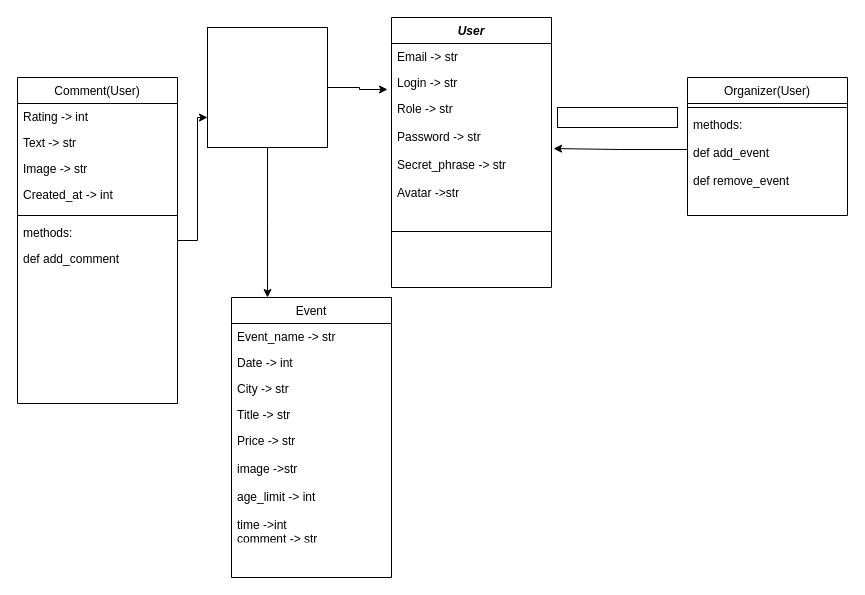
The diagram is 865 pixels wide and 595 high, and some of its shapes have lost their labels. The shapes that lost their labels are listed below. From the top down, each one's centre as x and y in pixels, then its label:
At (267,87): "наследование от Class_User email login от Class_Event event_name".
At (617,117): "наследование".
